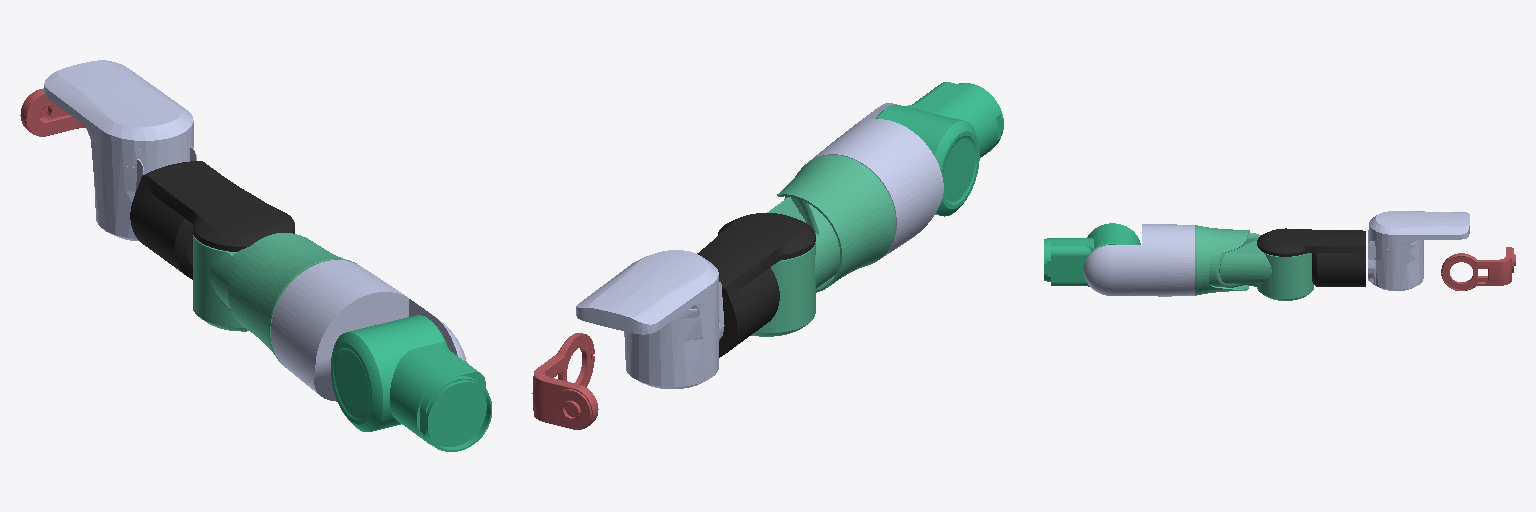
URDF robot description (left_arm__v024__[Arms-anthropomorphic]):
<?xml version="1.0" encoding="utf-8"?>
<!--================================================================================================================-->
<!--                                          DexForce Technology Co., Ltd                                          -->
<!--                                                                                                                -->
<!--                                       Robot URDF Model Generation Report                                       -->
<!--                                      Generation Time: 2026-06-04 11:09:05                                      -->
<!--                                  Version: DexForce URDF assembly manager V2.0                                  -->
<!--                                           Included Modules: left_arm                                           -->
<!--                            left_arm: {'version': 'v024', 'type': 'anthropomorphic'}                            -->
<!--================================================================================================================-->
<robot name="left_arm__v024__[Arms-anthropomorphic]">
  <link name="left_arm_base_link"> </link>
  <link name="base_to_left_arm_connector"> </link>
  <link name="left_arm_base"> </link>
  <link name="left_j1">
    <inertial>
      <origin xyz="1.0044215e-02 -1.9348277e-02 8.9797777e-02" rpy="0 0 0" />
      <mass value="1.409" />
      <inertia ixx="2.2157439e-03" ixy="1.3442042e-04" ixz="-1.0099560e-04" iyy="1.8405648e-03" iyz="5.0104429e-04" izz="9.2814485e-04" />
    </inertial>
    <visual>
      <origin xyz="0 0 0" rpy="0 0 0" />
      <geometry>
        <mesh filename="visual/left_arm/arml1.dae" />
      </geometry>
      <material name="">
        <color rgba="0.27843137254902 0.749019607843137 0.588235294117647 1" />
      </material>
    </visual>
    <collision>
      <origin xyz="0 0 0" rpy="0 0 0" />
      <geometry>
        <mesh filename="collision/left_arm/arml1.obj" />
      </geometry>
    </collision>
  </link>
  <link name="left_j2">
    <inertial>
      <origin xyz="-3.2517305e-03 7.4056987e-02 1.1738886e-02" rpy="0 0 0" />
      <mass value="1.572" />
      <inertia ixx="1.4799549e-03" ixy="-8.8915753e-05" ixz="-2.3200705e-05" iyy="1.3074723e-03" iyz="2.1905329e-04" izz="1.7901376e-03" />
    </inertial>
    <visual>
      <origin xyz="0 0 0" rpy="0 0 0" />
      <geometry>
        <mesh filename="visual/left_arm/arml2.dae" />
      </geometry>
      <material name="">
        <color rgba="0.792156862745098 0.819607843137255 0.933333333333333 1" />
      </material>
    </visual>
    <collision>
      <origin xyz="0 0 0" rpy="0 0 0" />
      <geometry>
        <mesh filename="collision/left_arm/arml2.obj" />
      </geometry>
    </collision>
  </link>
  <link name="left_j3">
    <inertial>
      <origin xyz="-8.3628082e-03 1.4121158e-02 -2.3247197e-02" rpy="0 0 0" />
      <mass value="1.545" />
      <inertia ixx="2.9144571e-03" ixy="1.4218994e-04" ixz="2.9614518e-04" iyy="2.7944082e-03" iyz="-4.6377628e-04" izz="1.3678615e-03" />
    </inertial>
    <visual>
      <origin xyz="0 0 0" rpy="0 0 0" />
      <geometry>
        <mesh filename="visual/left_arm/arml3.dae" />
      </geometry>
      <material name="">
        <color rgba="0.392156862745098 0.749019607843137 0.619607843137255 1" />
      </material>
    </visual>
    <collision>
      <origin xyz="0 0 0" rpy="0 0 0" />
      <geometry>
        <mesh filename="collision/left_arm/arml3.obj" />
      </geometry>
    </collision>
  </link>
  <link name="left_j4">
    <inertial>
      <origin xyz="-9.2955365e-05 8.1979902e-02 4.7669462e-03" rpy="0 0 0" />
      <mass value="1.192" />
      <inertia ixx="1.5577057e-03" ixy="-3.4749498e-06" ixz="-4.4043010e-07" iyy="8.6531687e-04" iyz="2.3875332e-04" izz="1.4953333e-03" />
    </inertial>
    <visual>
      <origin xyz="0 0 0" rpy="0 0 0" />
      <geometry>
        <mesh filename="visual/left_arm/arml4.dae" />
      </geometry>
      <material name="">
        <color rgba="0.211764705882353 0.211764705882353 0.211764705882353 1" />
      </material>
    </visual>
    <collision>
      <origin xyz="0 0 0" rpy="0 0 0" />
      <geometry>
        <mesh filename="collision/left_arm/arml4.obj" />
      </geometry>
    </collision>
  </link>
  <link name="left_j5">
    <inertial>
      <origin xyz="-3.6092128e-05 1.9610736e-02 1.0006215e-02" rpy="0 0 0" />
      <mass value="1.369" />
      <inertia ixx="2.3004383e-03" ixy="-6.4150312e-06" ixz="-5.7127218e-06" iyy="2.0182802e-03" iyz="-4.1130230e-04" izz="1.1217805e-03" />
    </inertial>
    <visual>
      <origin xyz="0 0 0" rpy="0 0 0" />
      <geometry>
        <mesh filename="visual/left_arm/arml5.dae" />
      </geometry>
      <material name="">
        <color rgba="0.792156862745098 0.819607843137255 0.933333333333333 1" />
      </material>
    </visual>
    <collision>
      <origin xyz="0 0 0" rpy="0 0 0" />
      <geometry>
        <mesh filename="collision/left_arm/arml5.obj" />
      </geometry>
    </collision>
  </link>
  <link name="left_j6">
    <inertial>
      <origin xyz="-7.0680334e-03 -2.1204370e-04 -6.2159854e-03" rpy="0 0 0" />
      <mass value="1.207" />
      <inertia ixx="1.0080965e-03" ixy="4.9654648e-06" ixz="6.8629206e-06" iyy="1.0715720e-03" iyz="-9.2973068e-06" izz="7.8439081e-04" />
    </inertial>
    <visual>
      <origin xyz="0 0 0" rpy="0 0 0" />
      <geometry>
        <mesh filename="visual/left_arm/arml6.dae" />
      </geometry>
      <material name="">
        <color rgba="0.792156862745098 0.819607843137255 0.933333333333333 1" />
      </material>
    </visual>
    <collision>
      <origin xyz="0 0 0" rpy="0 0 0" />
      <geometry>
        <mesh filename="collision/left_arm/arml6.obj" />
      </geometry>
    </collision>
  </link>
  <link name="left_j7">
    <inertial>
      <origin xyz="-5.7509463e-02 -1.2271763e-06 2.0788688e-02" rpy="0 0 0" />
      <mass value="1.285" />
      <inertia ixx="1.2435926e-04" ixy="3.2617933e-07" ixz="-8.5805836e-05" iyy="2.7693251e-04" iyz="1.5715920e-08" izz="2.2580021e-04" />
    </inertial>
    <visual>
      <origin xyz="0 0 0" rpy="0 0 0" />
      <geometry>
        <mesh filename="visual/left_arm/arml7.dae" />
      </geometry>
      <material name="">
        <color rgba="0.749019607843137 0.4 0.423529411764706 1" />
      </material>
    </visual>
    <collision>
      <origin xyz="0 0 0" rpy="0 0 0" />
      <geometry>
        <mesh filename="collision/left_arm/arml7.obj" />
      </geometry>
    </collision>
  </link>
  <link name="left_ee">
    <inertial>
      <origin xyz="0 0 0.048" rpy="0 0 0" />
      <mass value="0.05" />
      <inertia ixx="1E-05" ixy="1E-11" ixz="1E-06" iyy="1E-05" iyz="1E-08" izz="1E-05" />
    </inertial>
  </link>
  <joint name="BASE_TO_LEFT_ARM_CONNECTOR" type="fixed">
    <origin xyz="0 0.0985 0.235" rpy="-1.5707963267948966 -1.5707963267948966 0" />
    <parent link="left_arm_base_link" />
    <child link="base_to_left_arm_connector" />
  </joint>
  <joint name="LEFT_ARM_BASE" type="fixed">
    <origin xyz="0 0 0" rpy="0 0 0" />
    <parent link="base_to_left_arm_connector" />
    <child link="left_arm_base" />
  </joint>
  <joint name="LEFT_J1" type="revolute">
    <origin xyz="0 0 0" rpy="0 0 0" />
    <parent link="left_arm_base" />
    <child link="left_j1" />
    <axis xyz="0 0 1" />
    <limit lower="-2.9670597283903604" upper="2.9670597283903604" effort="100" velocity="0.8726646259971648" />
  </joint>
  <joint name="LEFT_J2" type="revolute">
    <origin xyz="0 0 0.1025" rpy="1.5707963267948966 0 3.141592653589793" />
    <parent link="left_j1" />
    <child link="left_j2" />
    <axis xyz="0 0 1" />
    <limit lower="-2.0943951023931953" upper="1.5707963267948966" effort="100" velocity="0.8726646259971648" />
  </joint>
  <joint name="LEFT_J3" type="revolute">
    <origin xyz="0 0.260 0.0" rpy="1.5707963267948966 -1.5707963267948966 3.141592653589793" />
    <parent link="left_j2" />
    <child link="left_j3" />
    <axis xyz="0 0 1" />
    <limit lower="-2.9670597283903604" upper="2.9670597283903604" effort="100" velocity="0.8726646259971648" />
  </joint>
  <joint name="LEFT_J4" type="revolute">
    <origin xyz="0 0 0" rpy="1.5707963267948966 0 0" />
    <parent link="left_j3" />
    <child link="left_j4" />
    <axis xyz="0 0 1" />
    <limit lower="-2.356194490192345" upper="1.5707963267948966" effort="50" velocity="0.8726646259971648" />
  </joint>
  <joint name="LEFT_J5" type="revolute">
    <origin xyz="0 0.166 0.0" rpy="-1.5707963267948966 3.141592653589793 0" />
    <parent link="left_j4" />
    <child link="left_j5" />
    <axis xyz="0 0 1" />
    <limit lower="-2.9670597283903604" upper="2.9670597283903604" effort="50" velocity="0.8726646259971648" />
  </joint>
  <joint name="LEFT_J6" type="revolute">
    <origin xyz="0 0 0.098" rpy="1.5707963267948966 0 0" />
    <parent link="left_j5" />
    <child link="left_j6" />
    <axis xyz="0 0 -1" />
    <limit lower="-0.7853981633974483" upper="0.7853981633974483" effort="50" velocity="0.8726646259971648" />
  </joint>
  <joint name="LEFT_J7" type="revolute">
    <origin xyz="0 0 0" rpy="-1.5707963267948966 3.141592653589793 1.5707963267948966" />
    <parent link="left_j6" />
    <child link="left_j7" />
    <axis xyz="0 0 1" />
    <limit lower="-1.5707963267948966" upper="1.0471975511965976" effort="50" velocity="0.8726646259971648" />
  </joint>
  <joint name="LEFT_EE" type="fixed">
    <origin xyz="-0.066 0 0" rpy="0 -1.5707963267948966 0" />
    <parent link="left_j7" />
    <child link="left_ee" />
  </joint>
</robot>

--- What the picture shows (computed from the rendered views, not written in the file) ---
The picture shows the robot from 3 angles, left to right: view 1: azimuth 30°, elevation 25°; view 2: azimuth 150°, elevation 25°; view 3: azimuth 270°, elevation 25°; orthographic projection.
Model left_arm__v024__[Arms-anthropomorphic] with 11 links and 10 joints (7 revolute, 3 fixed), rooted at left_arm_base_link, posed all joints at 0.
Links seen in each view (by area): view 1: left_j1, left_j5, left_j2, left_j4, left_j3, left_j7; view 2: left_j5, left_j3, left_j4, left_j1, left_j2, left_j7; view 3: left_j2, left_j3, left_j5, left_j4, left_j1, left_j7.
Boxes of the visible links, x1=… form: left_j1: x1=331, y1=315, x2=491, y2=451; left_j5: x1=44, y1=60, x2=196, y2=241; left_j2: x1=271, y1=260, x2=466, y2=401; left_j4: x1=130, y1=161, x2=294, y2=279; left_j3: x1=193, y1=233, x2=356, y2=367; left_j7: x1=20, y1=88, x2=85, y2=136; left_j5: x1=576, y1=250, x2=724, y2=388; left_j3: x1=751, y1=155, x2=895, y2=336; left_j4: x1=697, y1=213, x2=815, y2=357; left_j1: x1=876, y1=82, x2=1003, y2=216; left_j2: x1=810, y1=103, x2=943, y2=257; left_j7: x1=532, y1=333, x2=598, y2=429; left_j2: x1=1084, y1=224, x2=1194, y2=296; left_j3: x1=1195, y1=225, x2=1313, y2=300; left_j5: x1=1368, y1=211, x2=1469, y2=290; left_j4: x1=1257, y1=228, x2=1365, y2=286; left_j1: x1=1044, y1=223, x2=1140, y2=286; left_j7: x1=1441, y1=247, x2=1515, y2=290.
Size in the robot's own frame: 0.1108 by 0.7075 by 0.1246 metres.
6 mesh visuals loaded from 7 distinct referenced files (6 Collada DAE); not drawn: 1 (reference not matched to a file when rendering).
